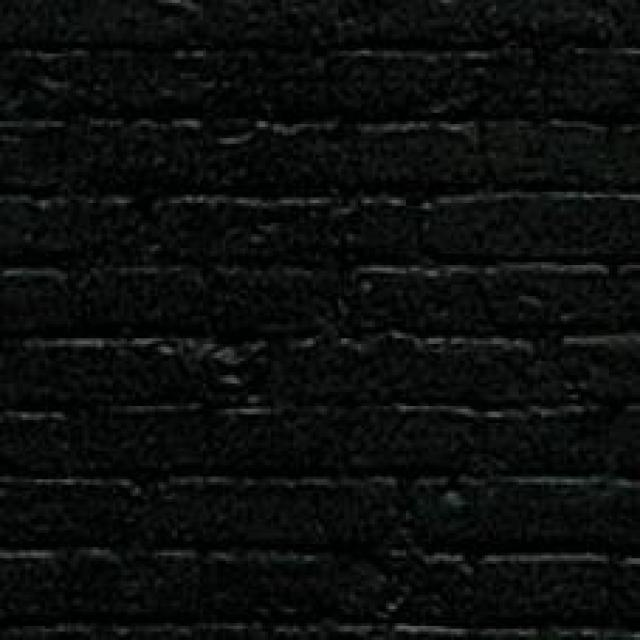Crack: (0, 0, 576, 499)
